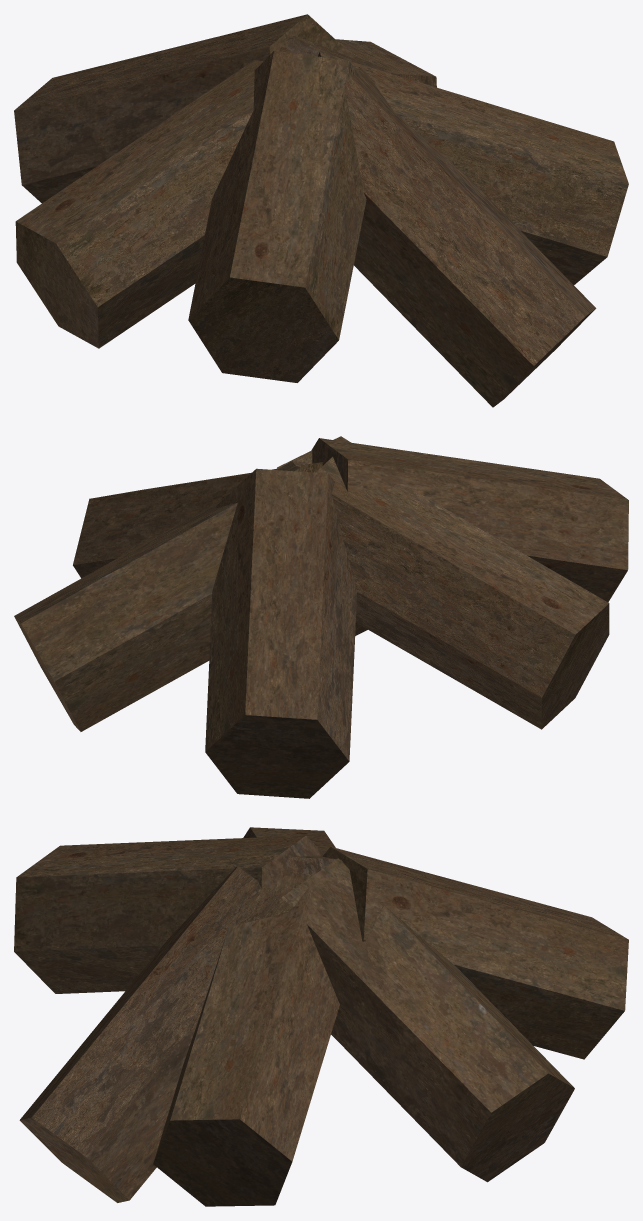
File: Campfire.glb
The picture shows the model from 3 angles, top to bottom: view 1: azimuth 30°, elevation 25°; view 2: azimuth 150°, elevation 25°; view 3: azimuth 270°, elevation 25°; orthographic projection. The views are drawn at different scales.
Parts seen in each view (by area): view 1: Cylinder.004, Cylinder.002, Cylinder.005, Cylinder, Cylinder.003, Cylinder.001; view 2: Cylinder.003, Cylinder.005, Cylinder.001, Cylinder.004, Cylinder; view 3: Cylinder.001, Cylinder, Cylinder.002, Cylinder.003, Cylinder.004, Cylinder.005.
Boxes of the visible parts, left/top/right/bottom form: Cylinder.004: left=188, top=50, right=366, bottom=382; Cylinder.002: left=341, top=69, right=596, bottom=407; Cylinder.005: left=15, top=46, right=294, bottom=348; Cylinder: left=318, top=52, right=628, bottom=284; Cylinder.003: left=14, top=14, right=353, bottom=203; Cylinder.001: left=285, top=36, right=436, bottom=87; Cylinder.003: left=205, top=468, right=357, bottom=798; Cylinder.005: left=316, top=456, right=609, bottom=729; Cylinder.001: left=14, top=461, right=300, bottom=731; Cylinder.004: left=311, top=438, right=628, bottom=602; Cylinder: left=73, top=462, right=322, bottom=578; Cylinder.001: left=281, top=858, right=574, bottom=1182; Cylinder: left=153, top=875, right=339, bottom=1206; Cylinder.002: left=19, top=866, right=293, bottom=1202; Cylinder.003: left=322, top=846, right=628, bottom=1059; Cylinder.004: left=14, top=835, right=323, bottom=993; Cylinder.005: left=243, top=827, right=336, bottom=875.
Size of the model in its own units: 1.26 by 0.6752 by 1.24.
1 material, 1 textured.
